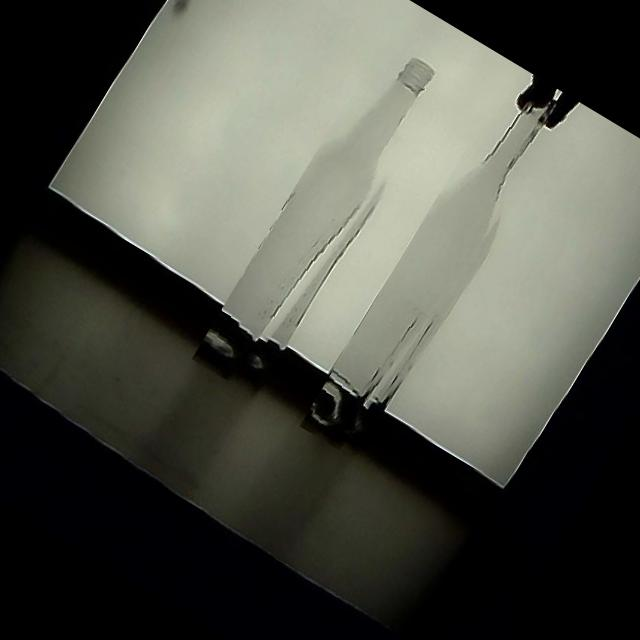Glass: (299, 75, 571, 463), (192, 40, 456, 402)
